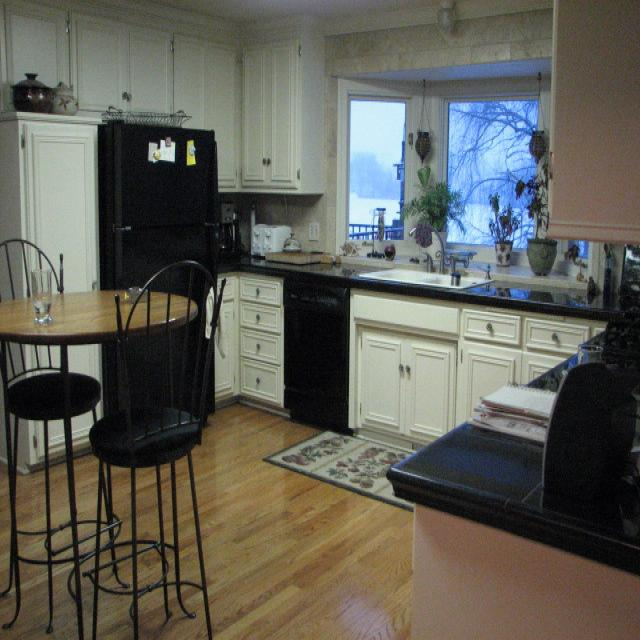chair: (91, 257, 225, 639), (0, 238, 101, 640)
dining table: (0, 267, 202, 343)
